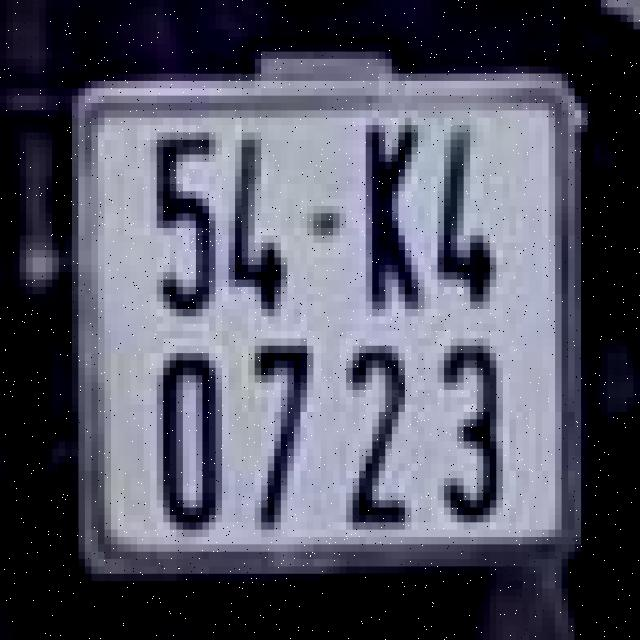0: (144, 338, 228, 537)
2: (330, 342, 421, 541)
3: (431, 335, 522, 533)
4: (428, 121, 512, 320), (219, 114, 297, 313)
5: (147, 114, 225, 327)
7: (238, 338, 324, 544)
K: (343, 103, 421, 316)
